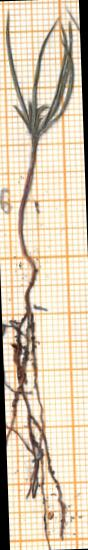flower: (6, 12, 73, 136)
root: (6, 312, 65, 549)
stem: (18, 138, 36, 315)
